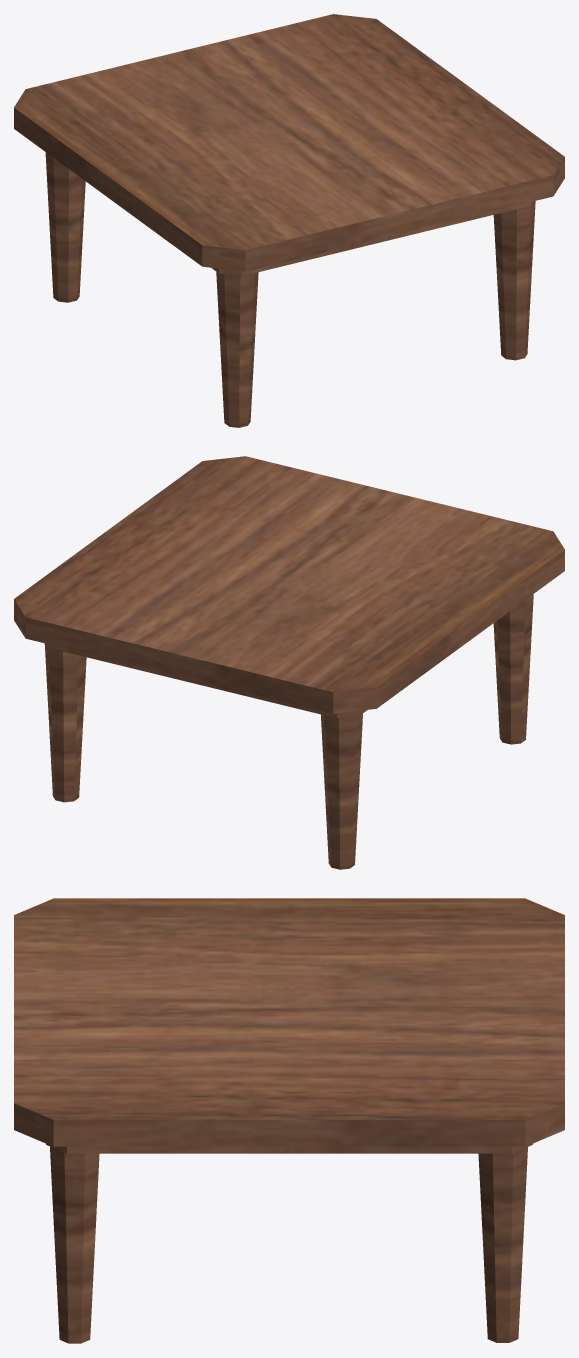
File: TABLE_03.fbx
3 views of the same model, one above another, from view 1: azimuth 30°, elevation 25°; view 2: azimuth 150°, elevation 25°; view 3: azimuth 270°, elevation 25° (orthographic). The views are drawn at different scales.
Visible parts, largest first — view 1: TABLE_03; view 2: TABLE_03; view 3: TABLE_03.
Part boxes in pixels (x1,y1,x2,y2): TABLE_03: (14,14,564,427); TABLE_03: (14,456,564,869); TABLE_03: (14,898,564,1343).
Size of the model in its own units: 163 by 83.35 by 171.
